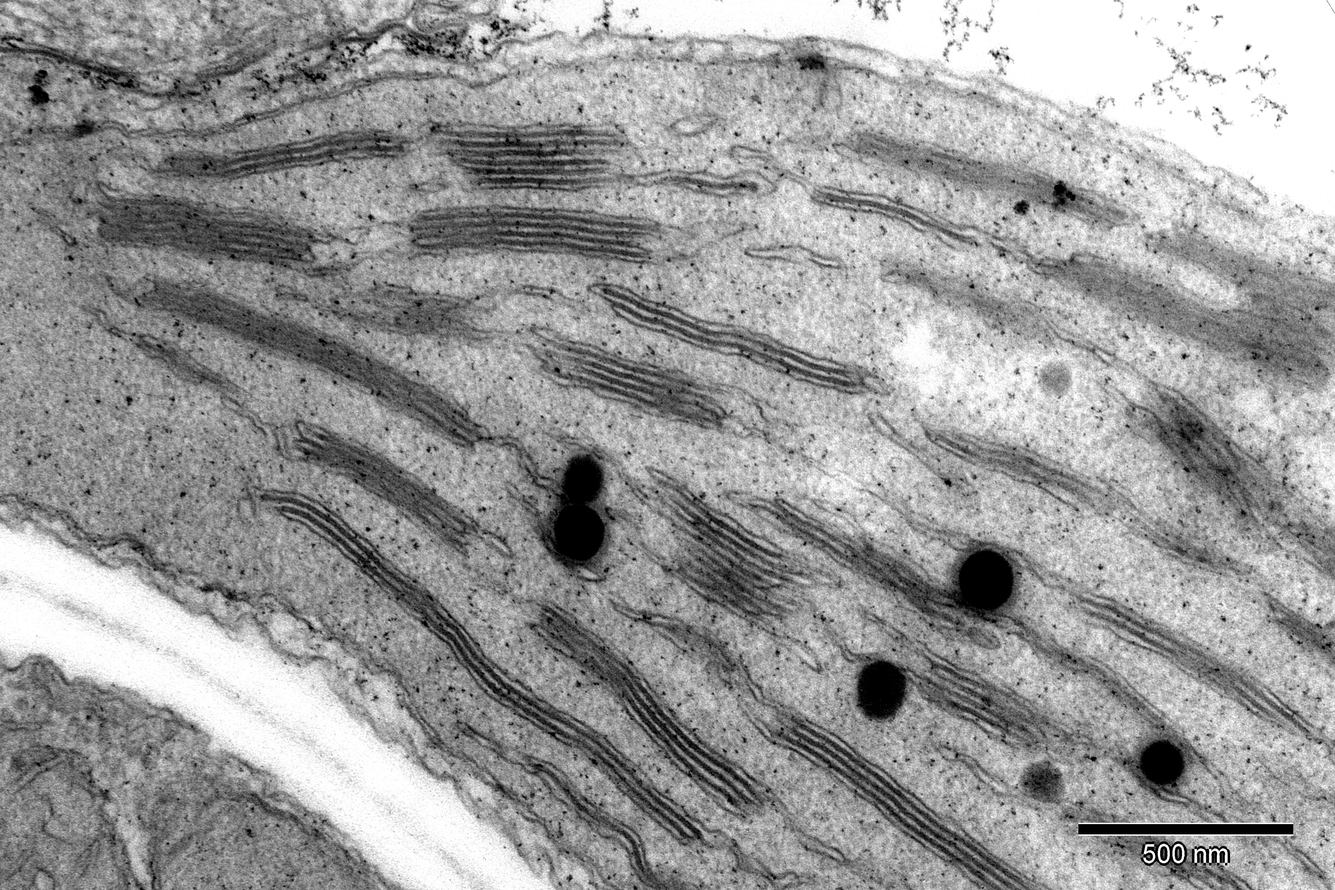granum: (271, 484, 708, 849), (128, 268, 494, 454), (529, 594, 783, 824), (771, 706, 1057, 890), (1052, 216, 1335, 399), (1119, 378, 1335, 580), (1063, 583, 1329, 747), (632, 462, 834, 639), (751, 493, 980, 649), (841, 124, 1139, 235), (607, 280, 880, 399), (288, 413, 482, 561), (91, 177, 319, 279), (534, 326, 732, 439), (919, 418, 1105, 523), (1061, 797, 1259, 890), (914, 650, 1062, 766), (401, 201, 655, 267), (1096, 473, 1247, 583), (152, 123, 411, 184), (440, 117, 630, 194), (368, 279, 482, 344), (1276, 596, 1335, 671)
